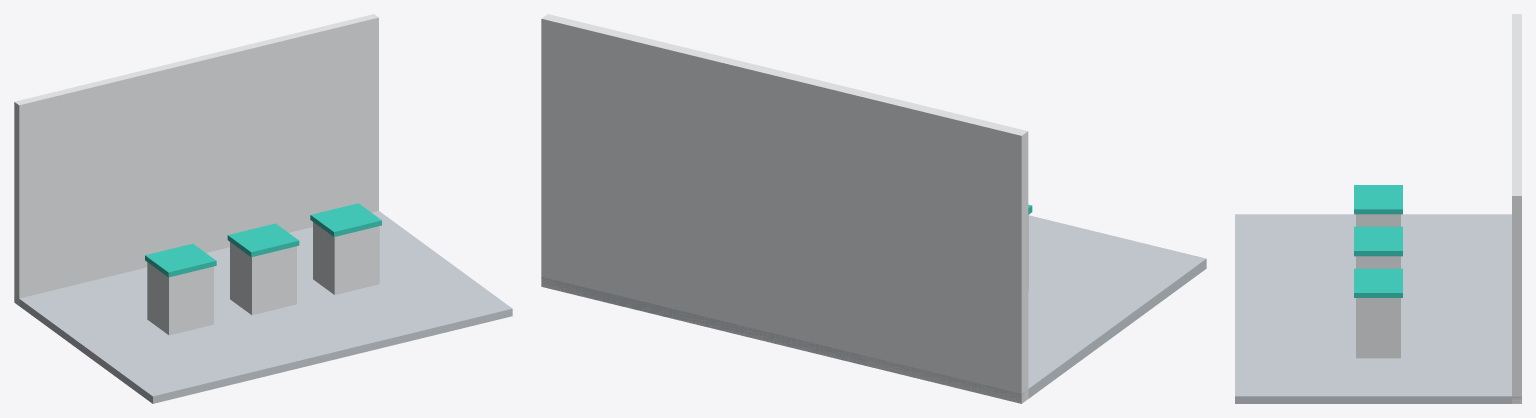
The picture shows the model from 3 angles, left to right: view 1: azimuth 30°, elevation 25°; view 2: azimuth 150°, elevation 25°; view 3: azimuth 270°, elevation 25°; orthographic projection. The views are drawn at different scales.
Parts seen in each view (by area): view 1: Exhibition Booth Concept; view 2: Exhibition Booth Concept; view 3: Exhibition Booth Concept.
Boxes of the visible parts, x1,y1,x2,y2 form: Exhibition Booth Concept: (14, 14, 512, 403); Exhibition Booth Concept: (541, 14, 1206, 403); Exhibition Booth Concept: (1235, 14, 1521, 403).
Size of the model in its own units: 6 by 3.2 by 4.
